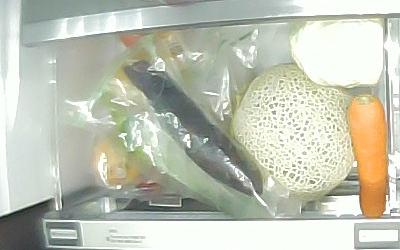cabbage: (288, 18, 385, 89)
carrot: (347, 93, 386, 217)
eggplant_vinyl: (120, 57, 263, 199)
melon: (227, 62, 357, 201)
